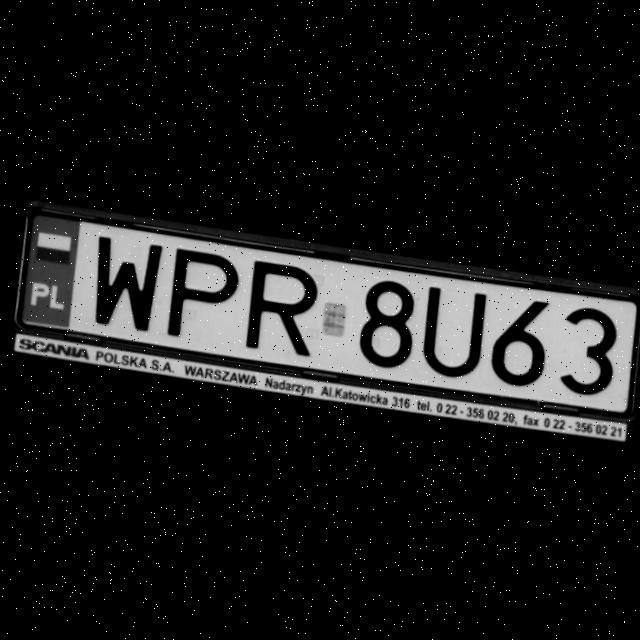license-plates: (18, 213, 639, 414)
